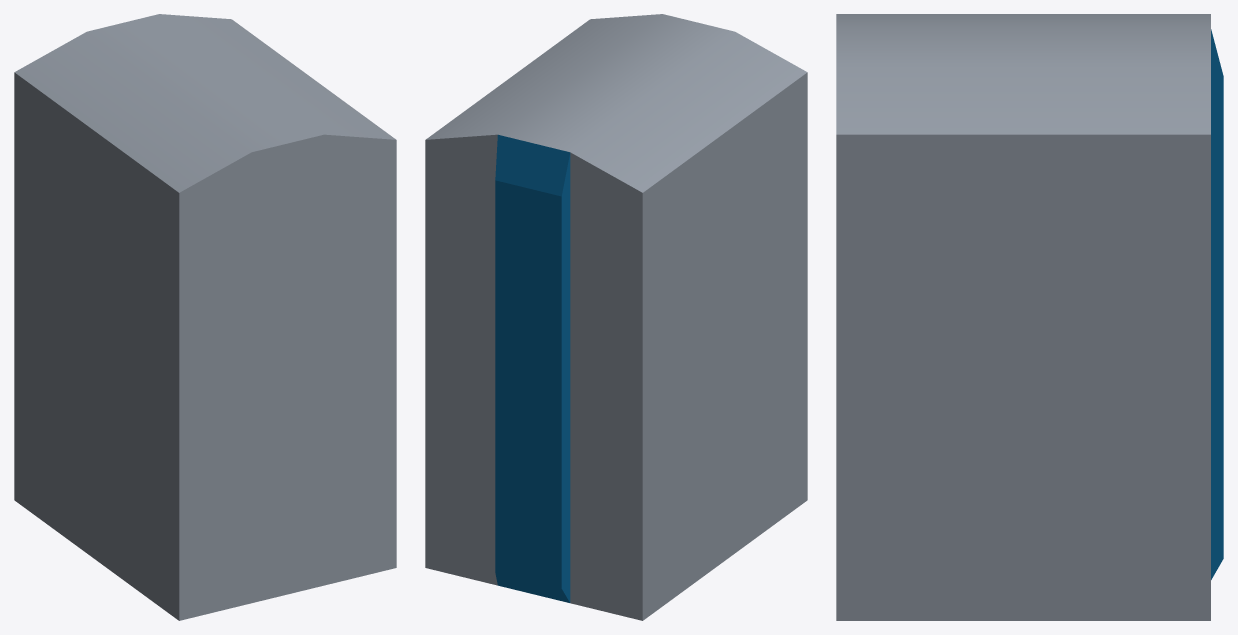
3 renders of one model, left to right at view 1: azimuth 30°, elevation 25°; view 2: azimuth 150°, elevation 25°; view 3: azimuth 270°, elevation 25°, orthographic. The views are drawn at different scales.
Parts seen in each view (by area): view 1: PC; view 2: PC; view 3: PC.
Boxes of the visible parts, x1,y1,x2,y2 form: PC: (14,14,396,620); PC: (425,14,807,620); PC: (836,14,1223,620).
Bounding box in the file's own units: 2.11 × 4.19 × 2.87.
